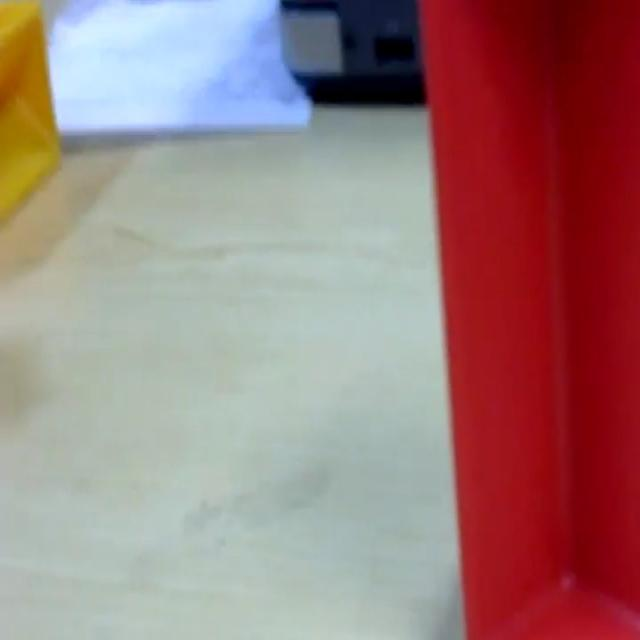red_block: (416, 0, 638, 636)
yellow_block: (0, 0, 61, 221)
